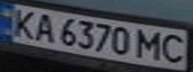0: (112, 24, 136, 56)
3: (72, 19, 96, 51)
6: (54, 16, 78, 47)
7: (90, 20, 115, 54)
A: (30, 11, 60, 43)
C: (157, 31, 190, 64)
K: (6, 7, 42, 39)
M: (136, 28, 166, 61)
